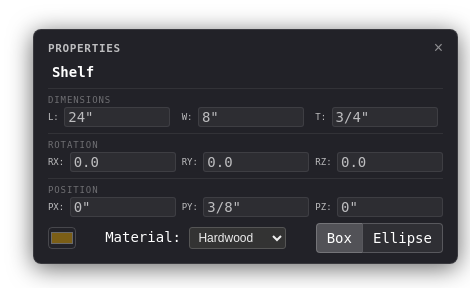
Scenario: PartPanel › does not commit name when blurred with empty value
The width and height of the screenshot is (470, 288).
Clear the field named "part name": [245, 72] box [48, 62, 443, 82]
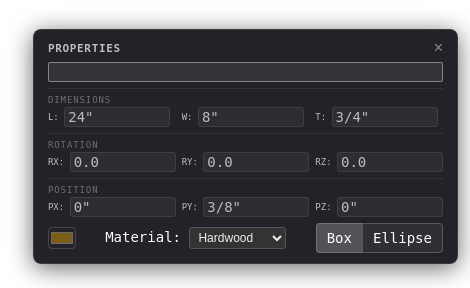
Press Tab
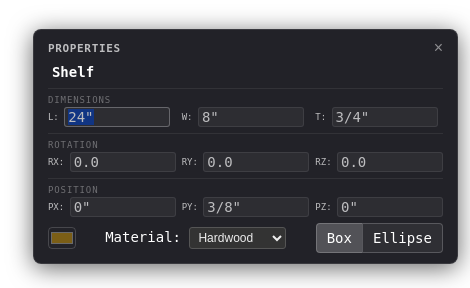
expect the field named "part name" holds "Shelf": met, box [48, 62, 443, 82]
